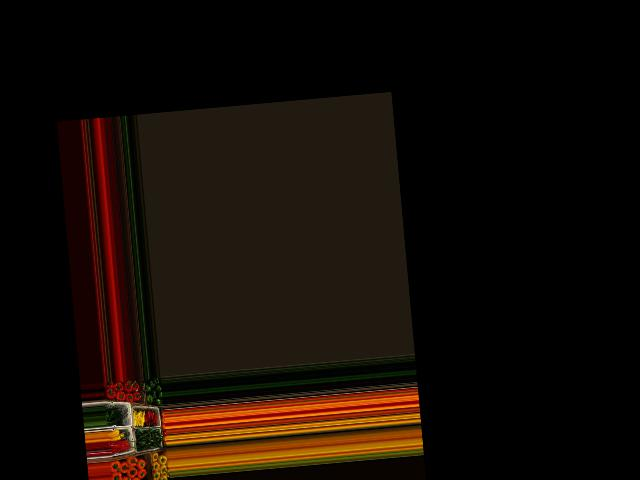bell_pepper: (142, 383, 154, 394)
